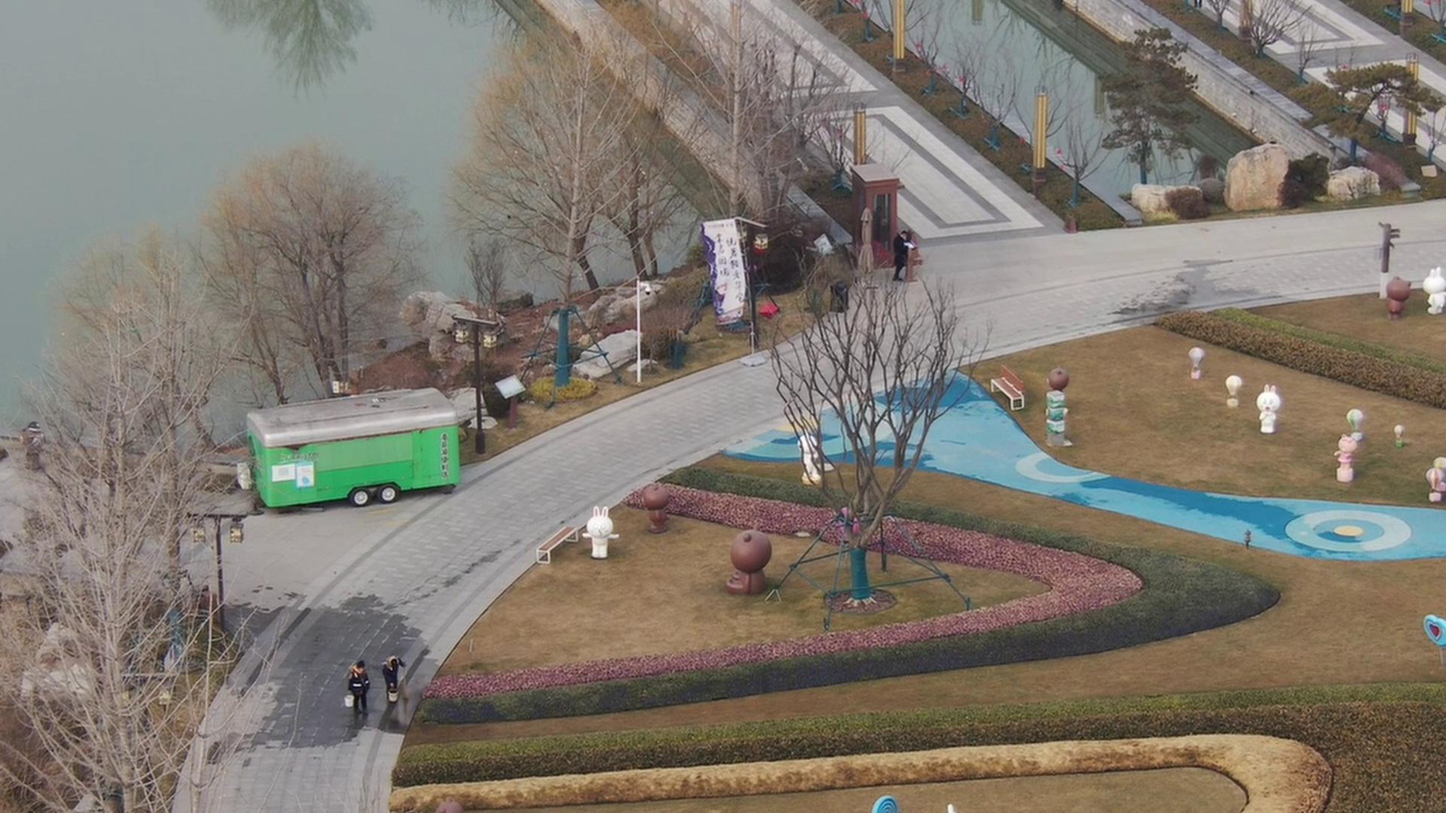human: (338, 649, 372, 711), (371, 641, 406, 694), (886, 224, 915, 278)
